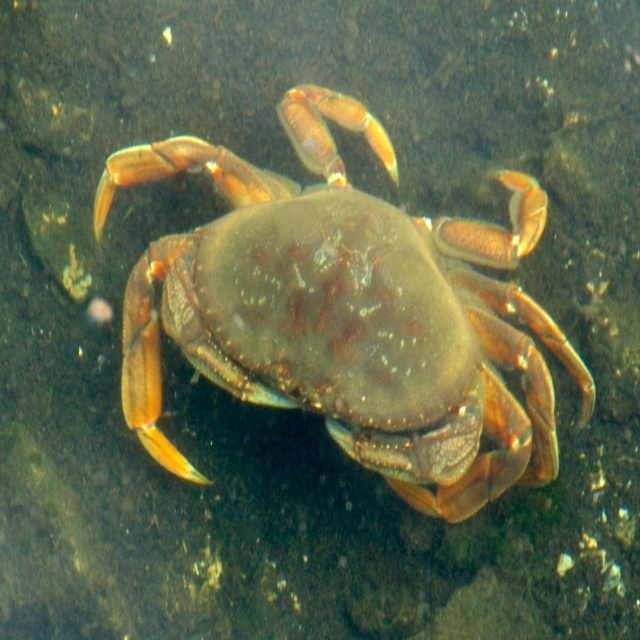Crab: (91, 76, 595, 525)
